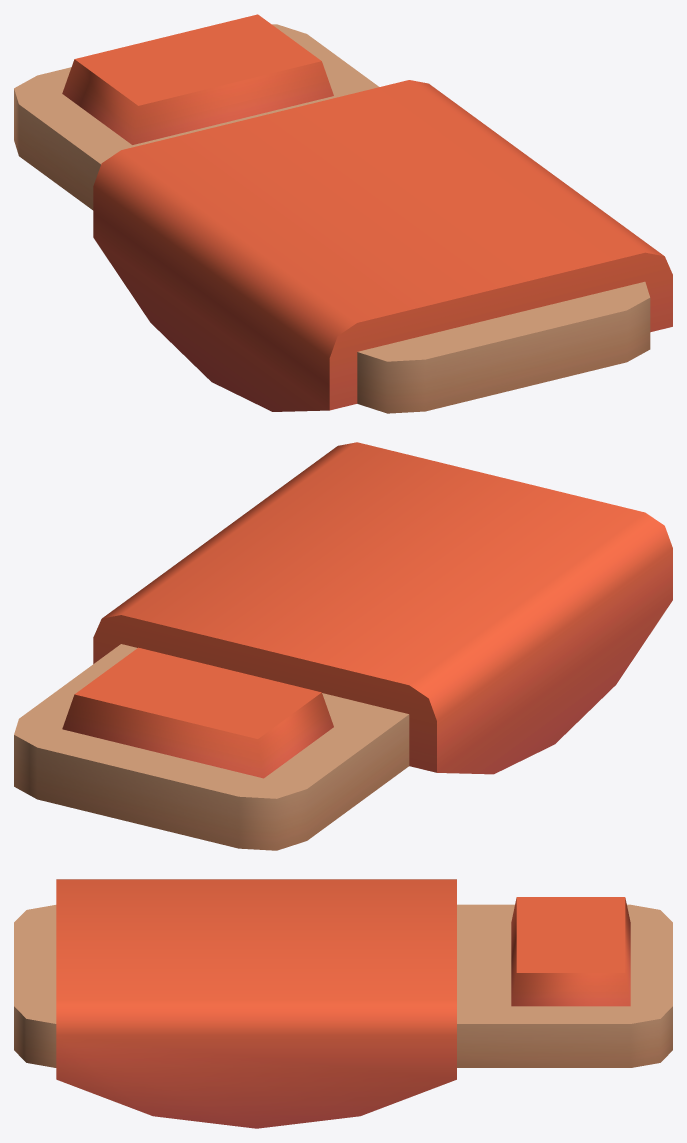
File: kenney-survival-bedroll.glb
3 views of the same model, one above another, from view 1: azimuth 30°, elevation 25°; view 2: azimuth 150°, elevation 25°; view 3: azimuth 270°, elevation 25° (orthographic). The views are drawn at different scales.
Parts seen in each view (by area): view 1: bedroll; view 2: bedroll; view 3: bedroll.
Boxes of the visible parts, <box> form: bedroll: <box>14,14,672,413</box>; bedroll: <box>14,442,672,850</box>; bedroll: <box>14,879,672,1128</box>.
Size of the model in its own units: 0.3104 by 0.1248 by 0.6076.
Materials: 1 (1 with a texture image).
